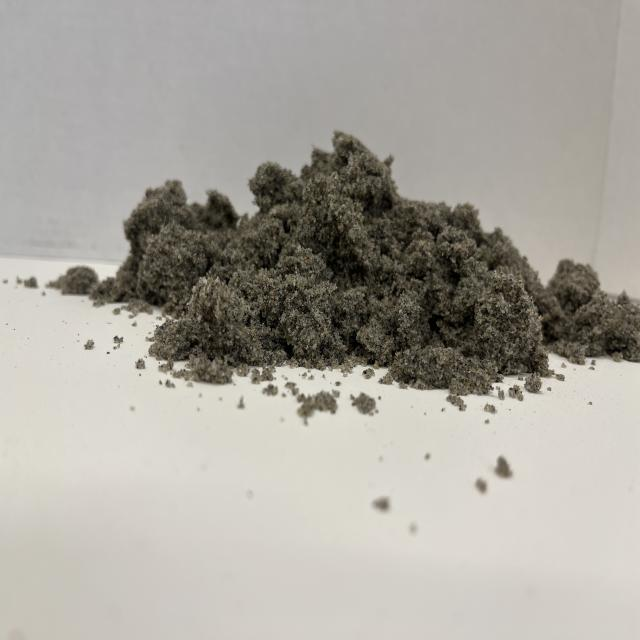sand: (101, 124, 612, 404)
